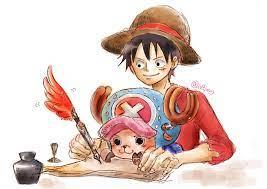chopper: (90, 85, 200, 160)
luffy: (100, 6, 203, 85)
